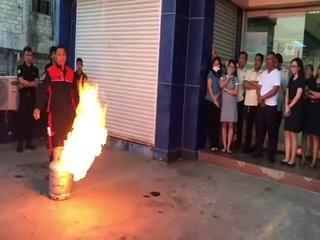Fire: (55, 76, 112, 184)
